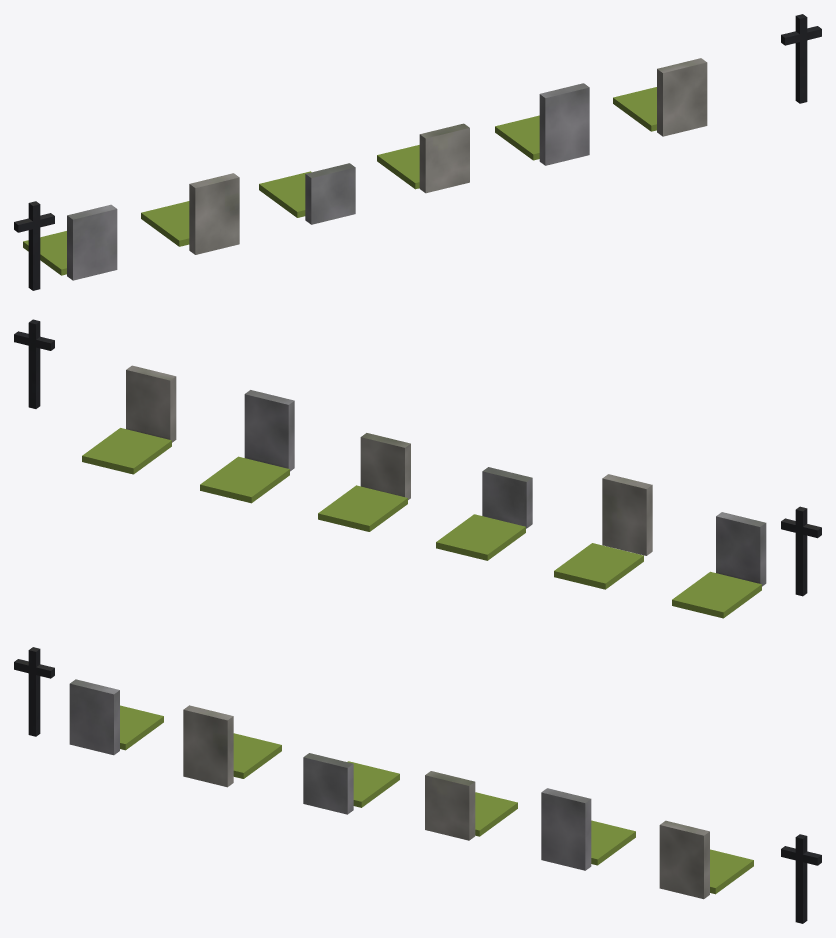
File: gravstenar_tex.glb
3 renders of one model, top to bottom at view 1: azimuth 30°, elevation 25°; view 2: azimuth 150°, elevation 25°; view 3: azimuth 330°, elevation 25°, orthographic.
Parts seen in each view (by area): view 1: gravstenar; view 2: gravstenar; view 3: gravstenar.
Part boxes in pixels (left/top/right/bottom): gravstenar: left=14, top=14, right=821, bottom=290; gravstenar: left=14, top=319, right=821, bottom=618; gravstenar: left=14, top=647, right=821, bottom=923.
Size of the model in its own units: 10.9 by 1.1 by 1.19.
4 materials, 3 textured.
